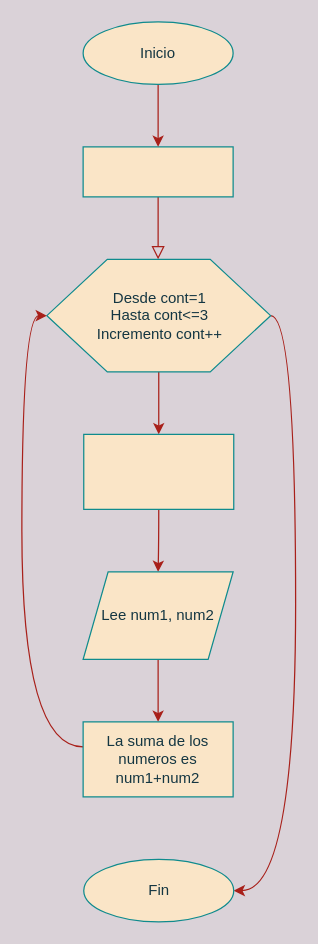
Some shapes in this 318 by 944 pixel diagram are drawn without their labels. The centre of each missing label's shape, as x and y in pixels:
cont,num1,num2; Entero: (x=157, y=171)
Escriba el usuario dos numeros: (x=158, y=471)
